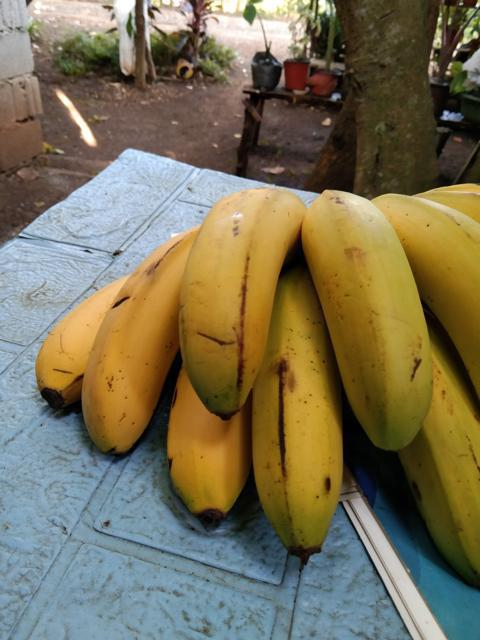freshripe: (308, 180, 437, 453)
ripe: (167, 179, 311, 401), (240, 303, 355, 568), (76, 238, 174, 447)
